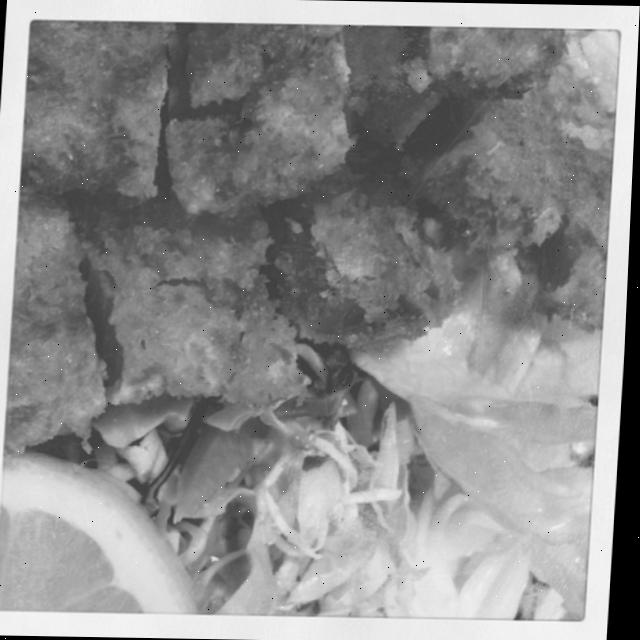炸货点心: (1, 23, 609, 616)
